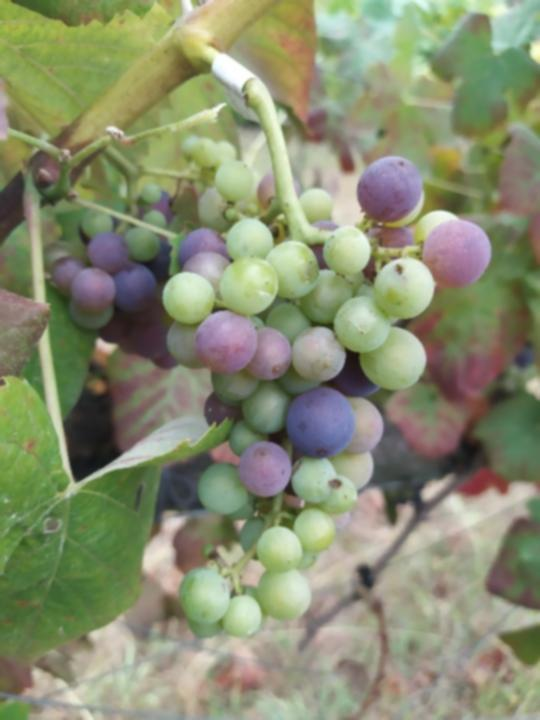grape: (159, 153, 493, 641)
